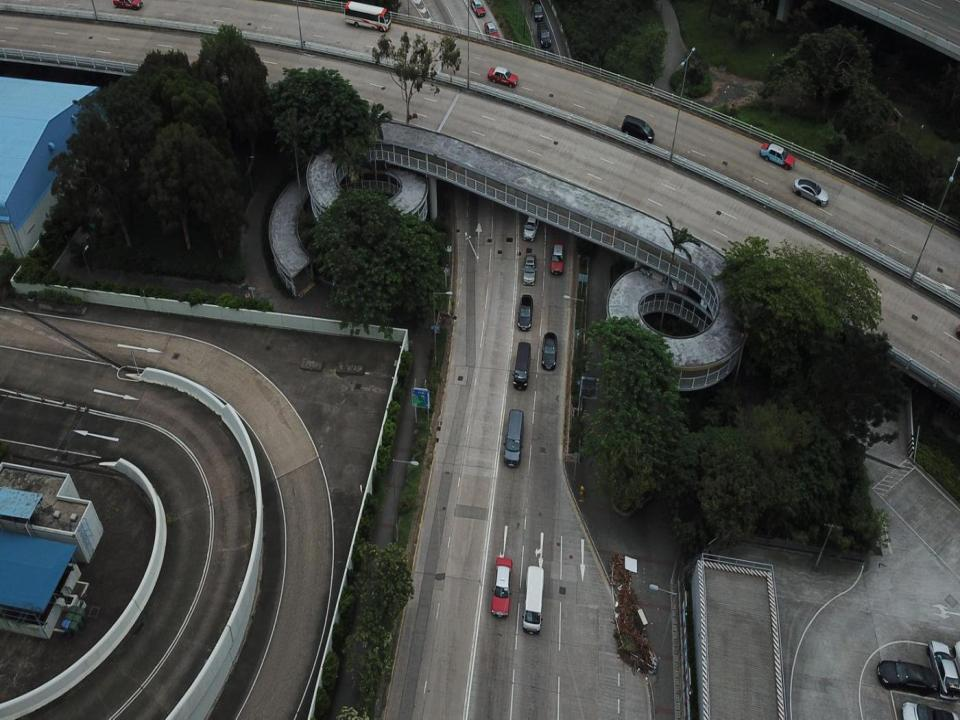bus: (343, 1, 393, 32)
car: (878, 656, 939, 696), (925, 637, 958, 700), (490, 556, 513, 618), (790, 176, 830, 207), (899, 699, 960, 719), (758, 140, 796, 170), (620, 114, 655, 146), (486, 62, 519, 88), (516, 293, 535, 332), (541, 331, 559, 371), (523, 210, 541, 241), (521, 251, 537, 285), (550, 239, 564, 275), (484, 19, 498, 43), (470, 0, 486, 19)
van: (520, 565, 544, 635), (503, 409, 526, 469), (512, 341, 532, 392), (536, 18, 550, 47)
